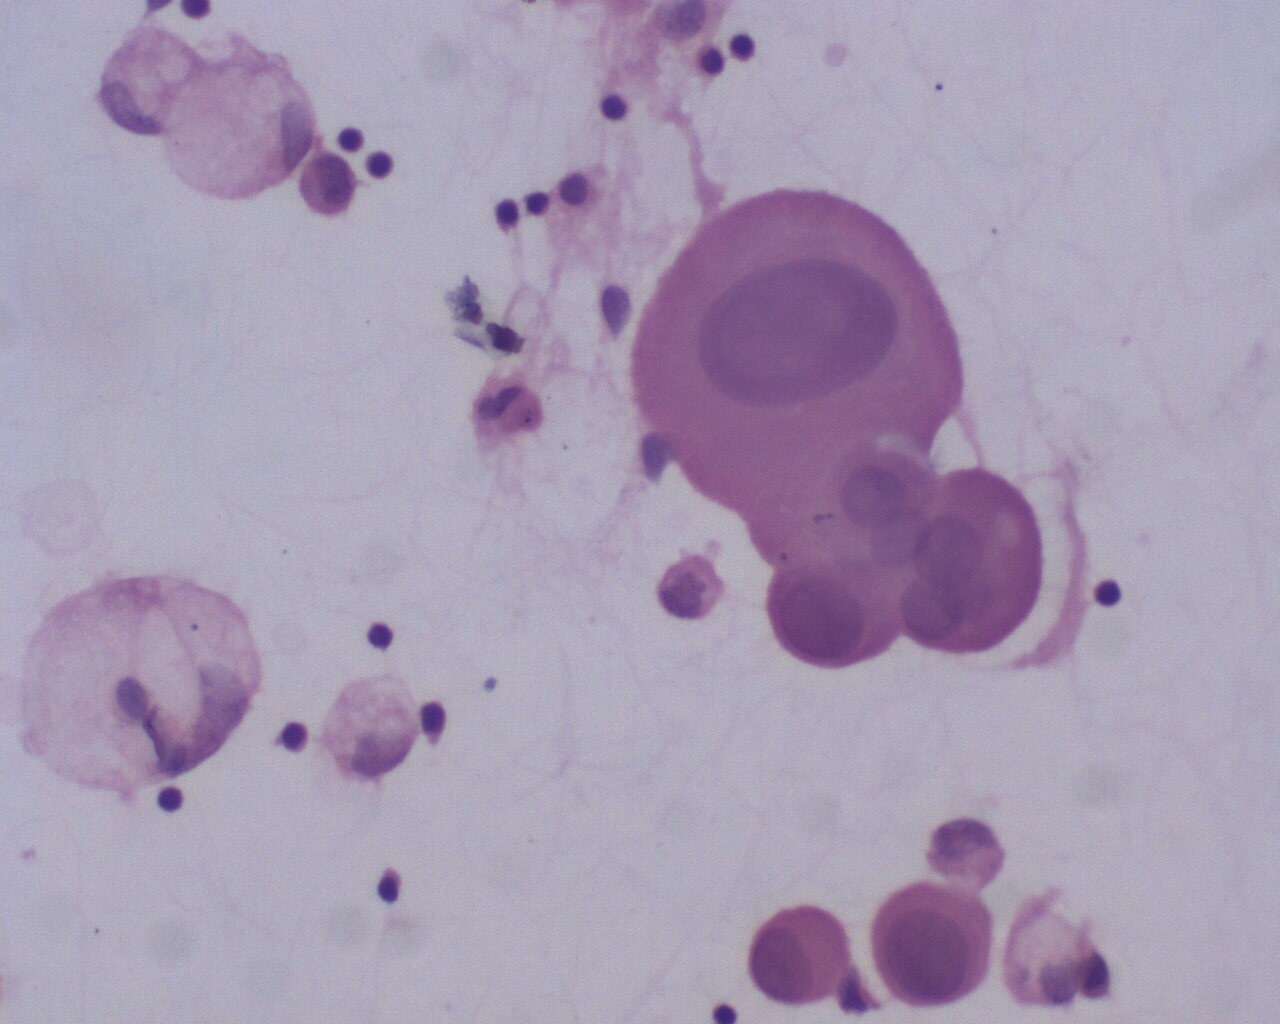ab: (629, 187, 964, 516), (20, 569, 264, 789), (758, 548, 900, 674), (864, 883, 998, 1010), (749, 901, 855, 1009), (299, 152, 360, 222)
histo: (153, 48, 317, 205)
lymph: (152, 779, 194, 823), (1093, 572, 1135, 616), (362, 615, 402, 658), (597, 83, 633, 126)
